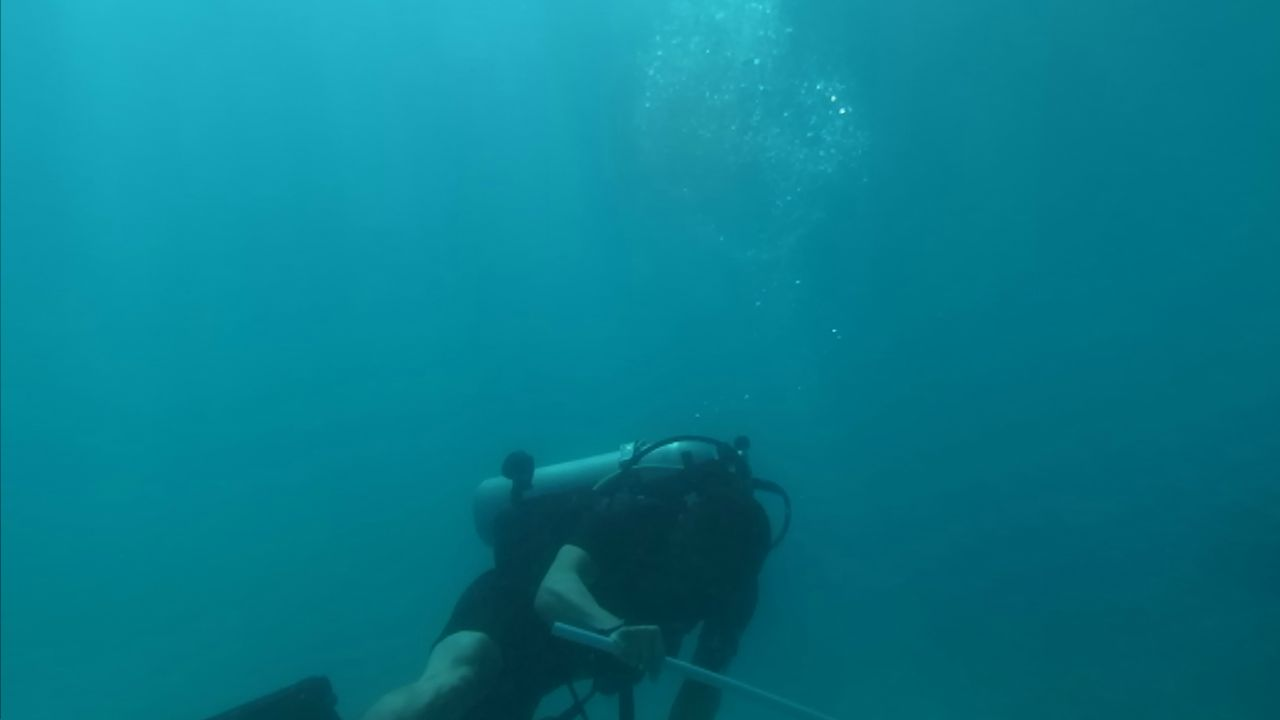Diver: (224, 426, 810, 716)
Hand: (582, 604, 678, 672)
